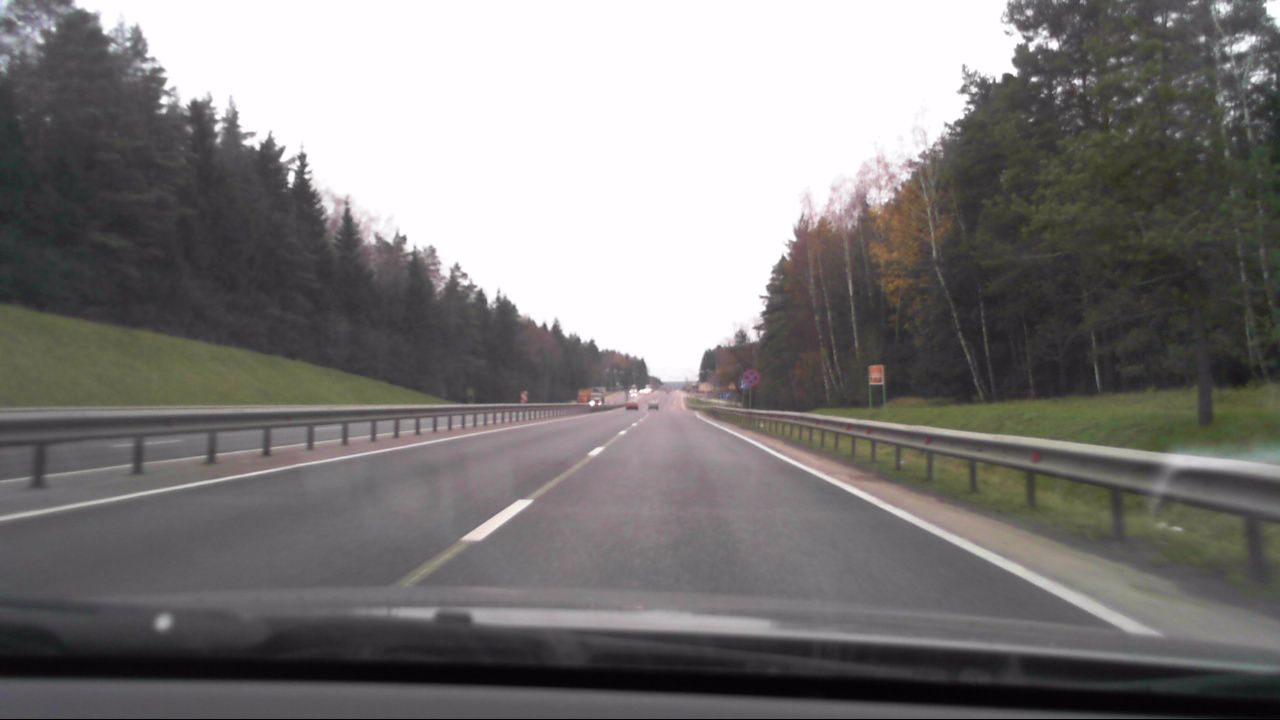No Parking: (740, 366, 761, 387)
